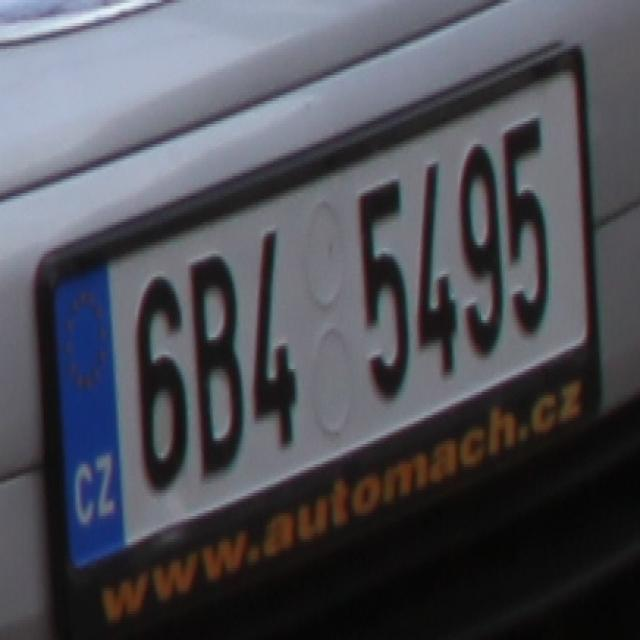4: (252, 224, 296, 458), (414, 150, 456, 395)
5: (352, 170, 410, 410), (500, 104, 550, 338)
6: (131, 268, 188, 496)
9: (459, 136, 504, 364)
B: (188, 251, 246, 478)
